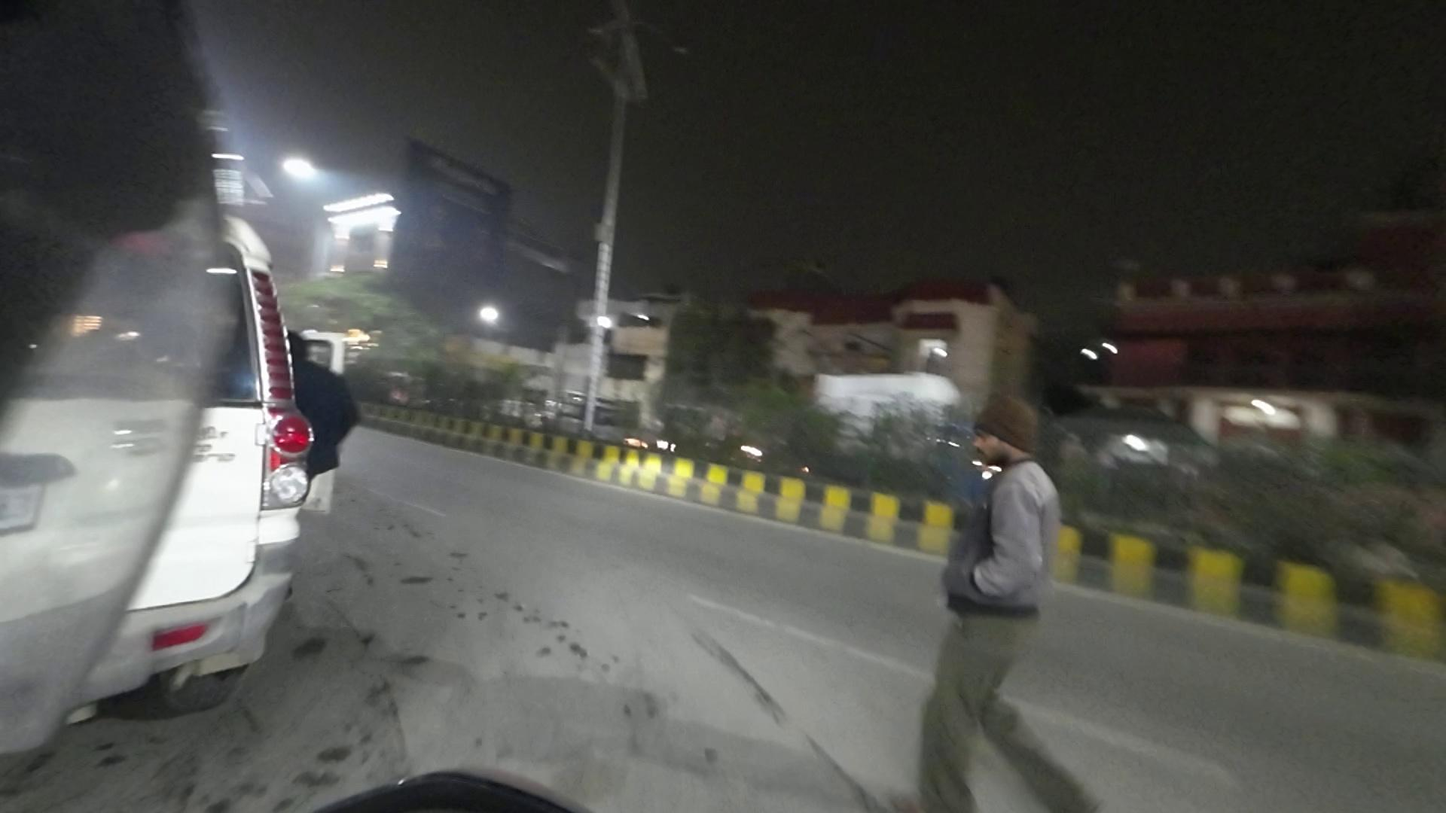streetlight: (640, 17, 699, 59)
